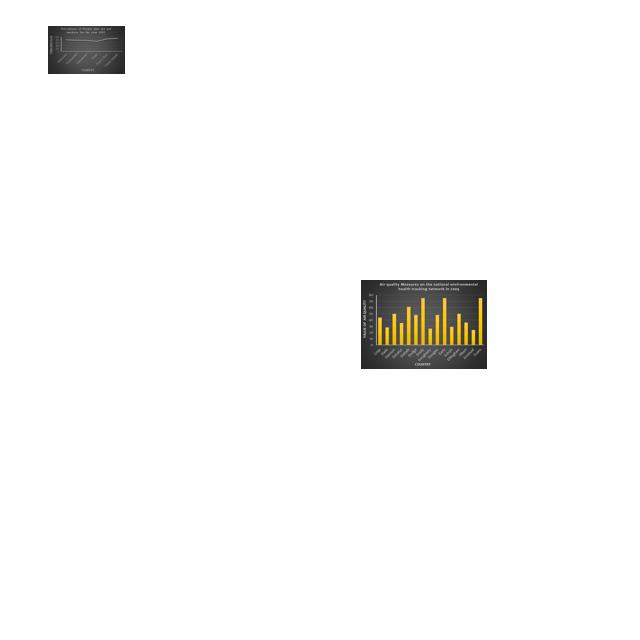Graph: (361, 280, 487, 369), (48, 26, 125, 74)
